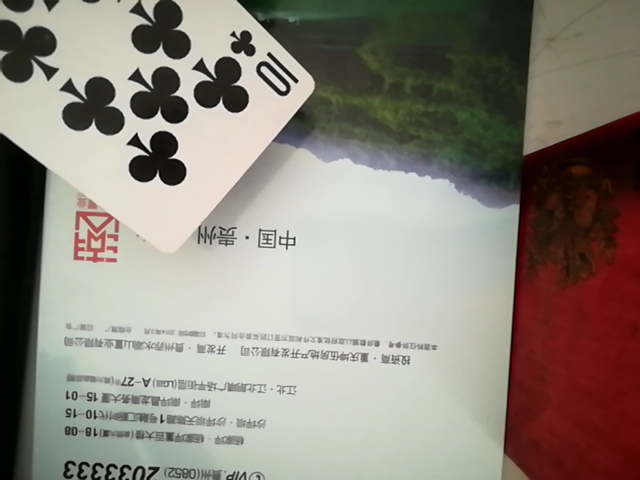mh 10: (3, 0, 319, 268)
